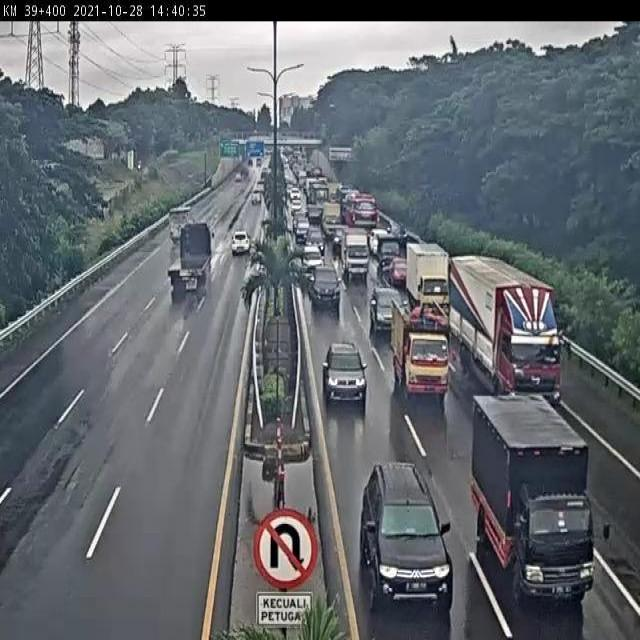big truck: (447, 258, 562, 410), (169, 224, 216, 292)
car: (361, 461, 453, 607), (319, 336, 362, 395), (369, 284, 401, 327), (310, 259, 338, 300), (230, 229, 255, 256)
small truck: (472, 394, 595, 602), (392, 298, 447, 394), (408, 243, 452, 312), (338, 225, 371, 275), (166, 201, 194, 244)
